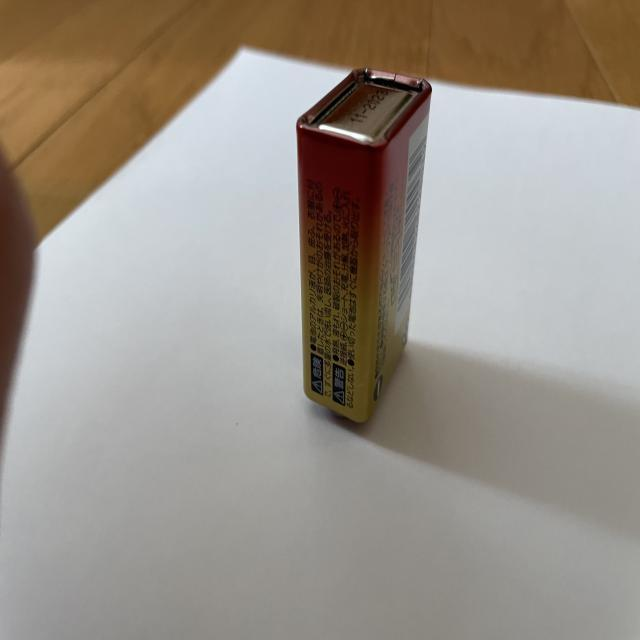9V: (295, 67, 433, 428)
